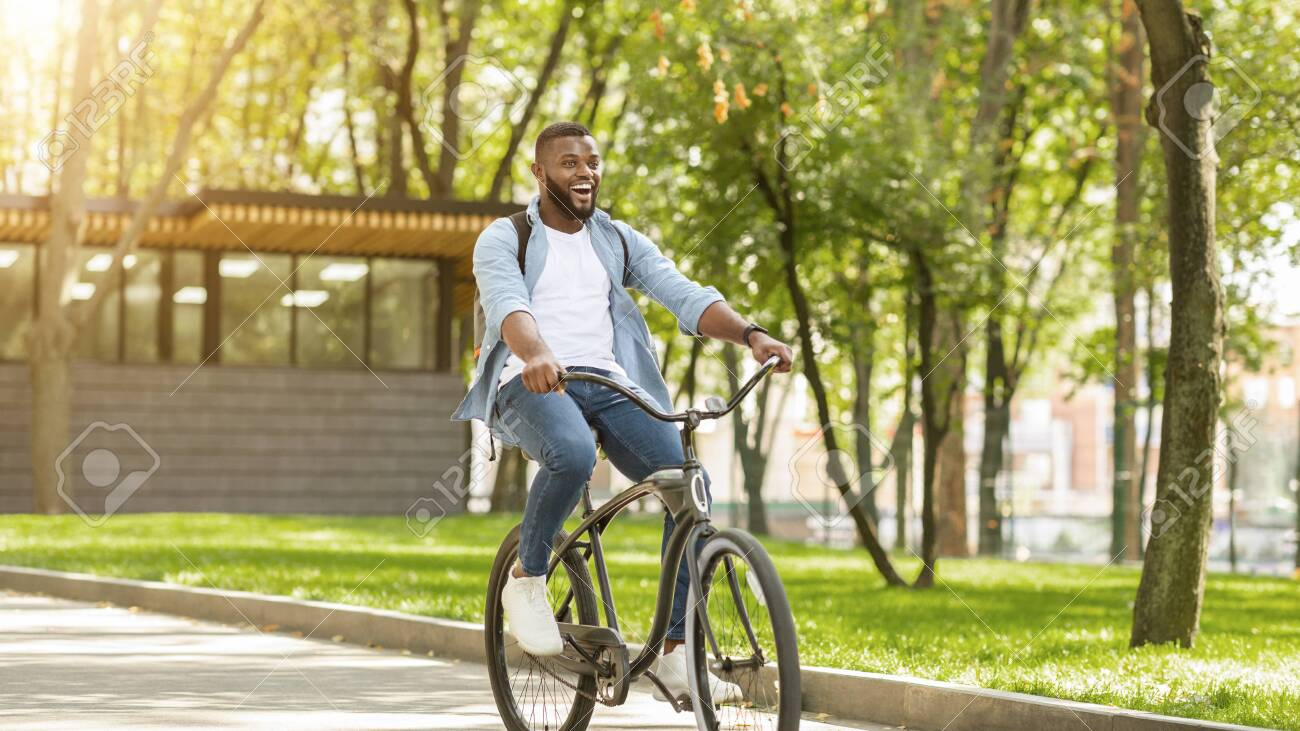bike: (477, 352, 820, 731)
person: (471, 110, 794, 703)
